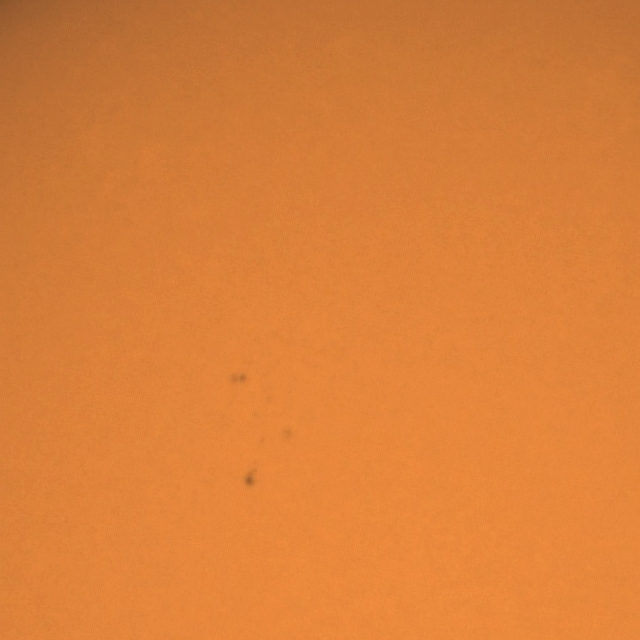sunspot: (242, 466, 260, 490), (229, 371, 249, 386)
